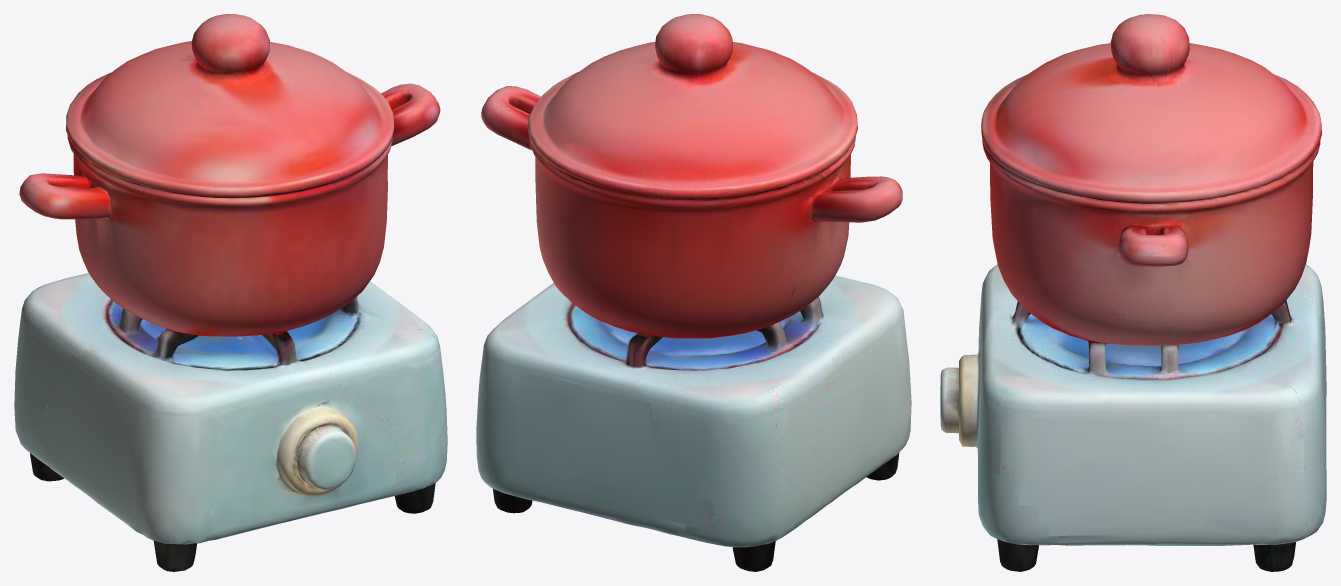
The model's file is cooking_pot.glb.
3 views of the same model, side by side, from view 1: azimuth 30°, elevation 25°; view 2: azimuth 150°, elevation 25°; view 3: azimuth 270°, elevation 25° (orthographic). The views are drawn at different scales.
Parts seen in each view (by area): view 1: cooking_pot; view 2: cooking_pot; view 3: cooking_pot.
Part boxes in pixels (bbox=[...]): cooking_pot: bbox=[14, 14, 447, 571]; cooking_pot: bbox=[476, 14, 911, 571]; cooking_pot: bbox=[940, 14, 1326, 571].
Bounding box in the file's own units: 0.6314 × 0.7001 × 0.5037.
1 material, 1 textured.
